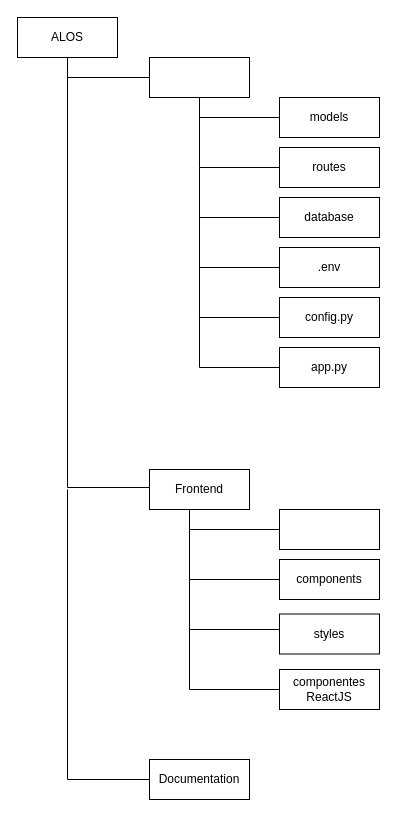
Image size: 397x817. Some labels were removed from this diagram. Here are the shapes that lost their labels. From the top down, the box of each, then its label:
(148, 56, 250, 98): Backend
(278, 508, 380, 550): src
